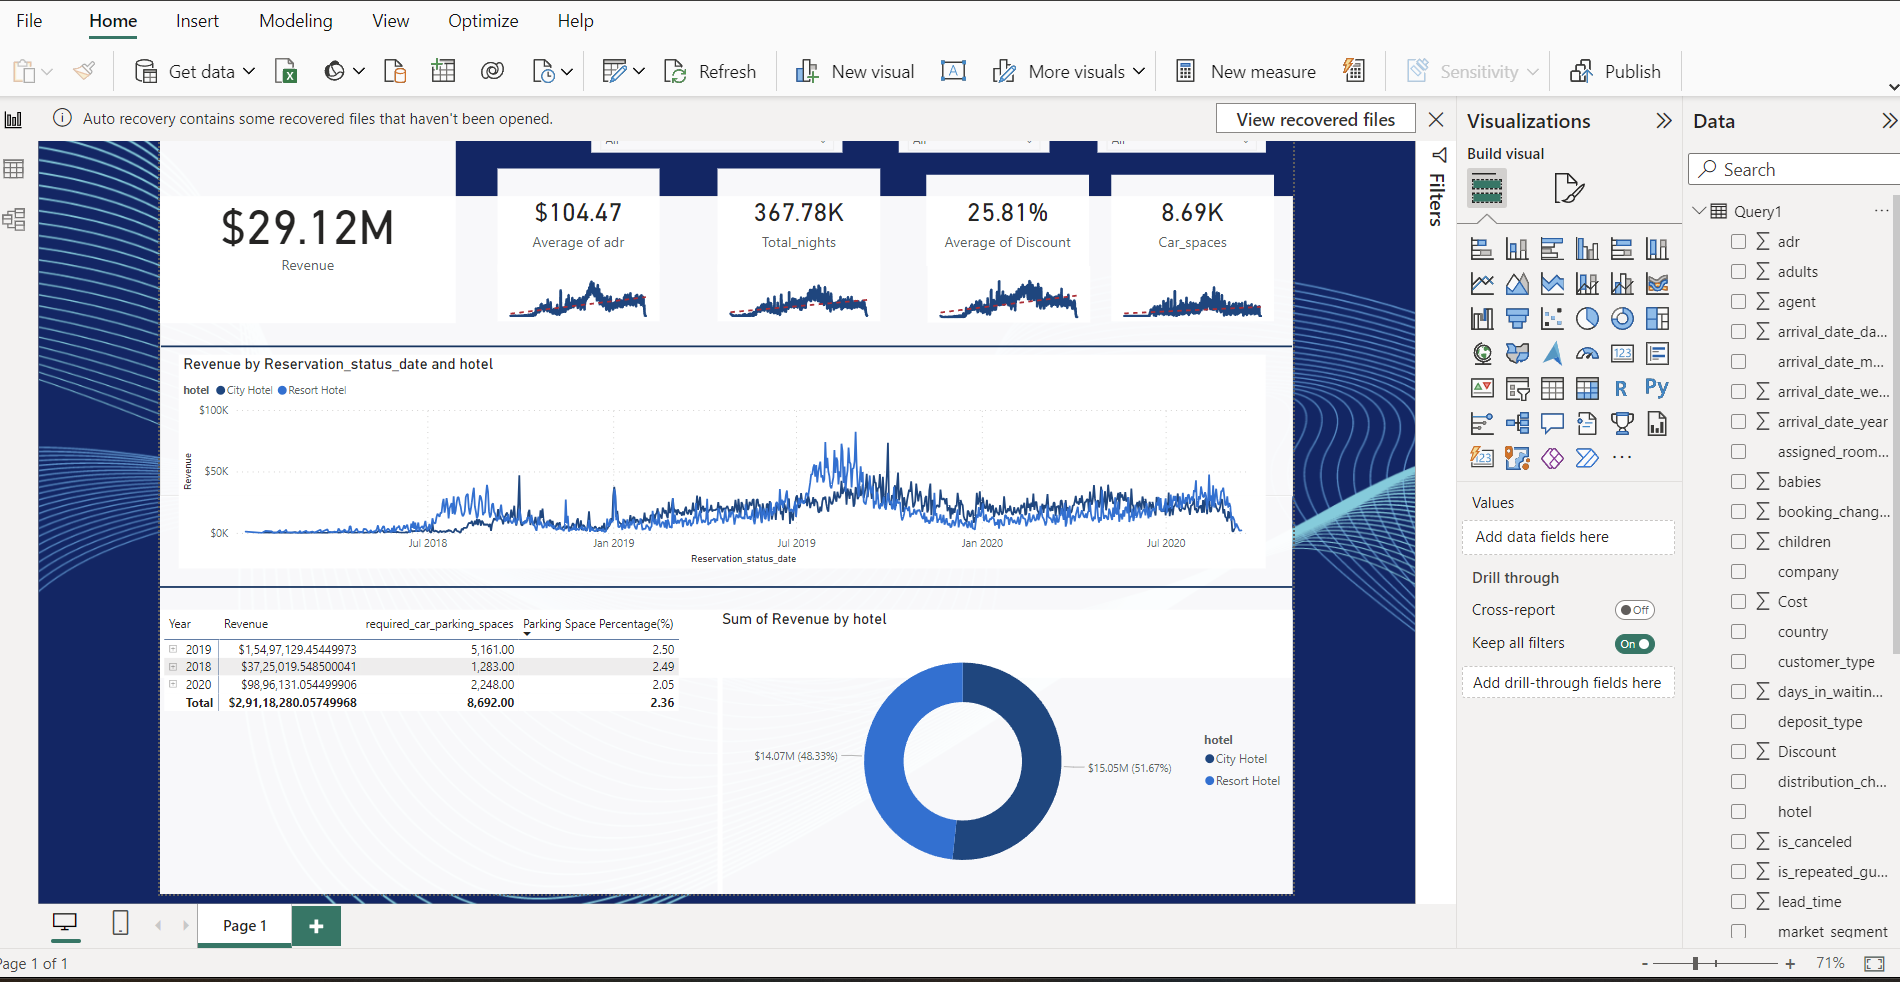

What the dashboard file says about the page in this screenshot:
{"tool":"powerbi","page":{"name":"Page 1","canvas":[1280,903],"ordinal":0},"visuals":[{"type":"shape","box":[0,112.9,1280,340],"z":0},{"type":"shape","box":[0,452.9,1280,205.7],"z":1000},{"type":"card","fields":{"Values":["Sum(Query1.Revenue)"]},"box":[0,48.6,334.3,208.6],"z":2000},{"type":"card","fields":{"Values":["Query1.Total_nights"]},"box":[630,81.4,184.3,117.1],"z":3000},{"type":"card","fields":{"Values":["Avg(Query1.adr)"]},"box":[381.4,81.4,182.9,117.1],"z":4000},{"type":"card","fields":{"Values":["Avg(Query1.Discount)"]},"box":[865.7,88.6,184.3,102.9],"z":5000},{"type":"lineChart","fields":{"Y":["Sum(Query1.Revenue)"],"Category":["Query1.reservation_status_date"],"Series":["Query1.hotel"]},"box":[21.4,292.9,1228.6,241.4],"z":6000},{"type":"slicer","fields":{"Values":["Query1.country"]},"box":[1060,5.7,190,58.6],"z":7000},{"type":"slicer","fields":{"Values":["Query1.hotel"]},"box":[835.7,5.7,170,58.6],"z":8000},{"type":"lineChart","fields":{"Category":["Query1.reservation_status_date"],"Y":["Sum(Query1.adr)"]},"box":[381.4,191.4,182.9,64.3],"z":9000},{"type":"lineChart","fields":{"Category":["Query1.reservation_status_date"],"Y":["Query1.Total_nights"]},"box":[630,191.4,184.3,64.3],"z":10000},{"type":"lineChart","fields":{"Category":["Query1.reservation_status_date"],"Y":["Sum(Query1.Discount)"]},"box":[867.1,192.9,184.3,64.3],"z":11000},{"type":"card","fields":{"Values":["Sum(Query1.required_car_parking_spaces)"]},"box":[1075.7,88.6,184.3,102.9],"z":12000},{"type":"lineChart","fields":{"Category":["Query1.reservation_status_date"],"Y":["Sum(Query1.required_car_parking_spaces)"]},"box":[1075.7,191.4,184.3,64.3],"z":13000},{"type":"donutChart","fields":{"Category":["Query1.hotel"],"Y":["Sum(Query1.Revenue)"]},"box":[630.3,580.8,650,322.2],"z":14000},{"type":"pivotTable","fields":{"Values":["Sum(Query1.Revenue)","Sum(Query1.required_car_parking_spaces)","Query1.Parking Space Percentage(%)"],"Rows":["Query1.reservation_status_date.Variation.Date Hierarchy.Year","Query1.hotel"]},"box":[0,580.8,635.9,322.2],"z":15000},{"type":"slicer","fields":{"Values":["Query1.reservation_status_date.Variation.Date Hierarchy.Year"]},"box":[487.1,5.7,284.3,58.6],"z":16000}]}

Visuals, with their boxes on the page's 1280x903 design canvas (x1, y1, x2, y2). These are canvas units, not pixel positions in the 1900x982 screenshot, which may show the page scaled, cropped or inside an application window:
shape: BBox(0, 113, 1280, 453)
shape: BBox(0, 453, 1280, 659)
card - Sum(Query1.Revenue): BBox(0, 49, 334, 257)
card - Query1.Total_nights: BBox(630, 81, 814, 198)
card - Avg(Query1.adr): BBox(381, 81, 564, 198)
card - Avg(Query1.Discount): BBox(866, 89, 1050, 192)
lineChart - Sum(Query1.Revenue) x Query1.reservation_status_date: BBox(21, 293, 1250, 534)
slicer - Query1.country: BBox(1060, 6, 1250, 64)
slicer - Query1.hotel: BBox(836, 6, 1006, 64)
lineChart - Query1.reservation_status_date x Sum(Query1.adr): BBox(381, 191, 564, 256)
lineChart - Query1.reservation_status_date x Query1.Total_nights: BBox(630, 191, 814, 256)
lineChart - Query1.reservation_status_date x Sum(Query1.Discount): BBox(867, 193, 1051, 257)
card - Sum(Query1.required_car_parking_spaces): BBox(1076, 89, 1260, 192)
lineChart - Query1.reservation_status_date x Sum(Query1.required_car_parking_spaces): BBox(1076, 191, 1260, 256)
donutChart - Query1.hotel x Sum(Query1.Revenue): BBox(630, 581, 1280, 903)
pivotTable - Sum(Query1.Revenue) x Sum(Query1.required_car_parking_spaces): BBox(0, 581, 636, 903)
slicer - Query1.reservation_status_date.Variation.Date Hierarchy.Year: BBox(487, 6, 771, 64)
